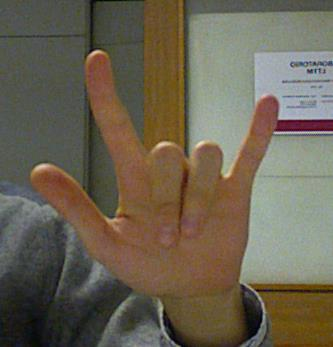back: (30, 48, 282, 300)
